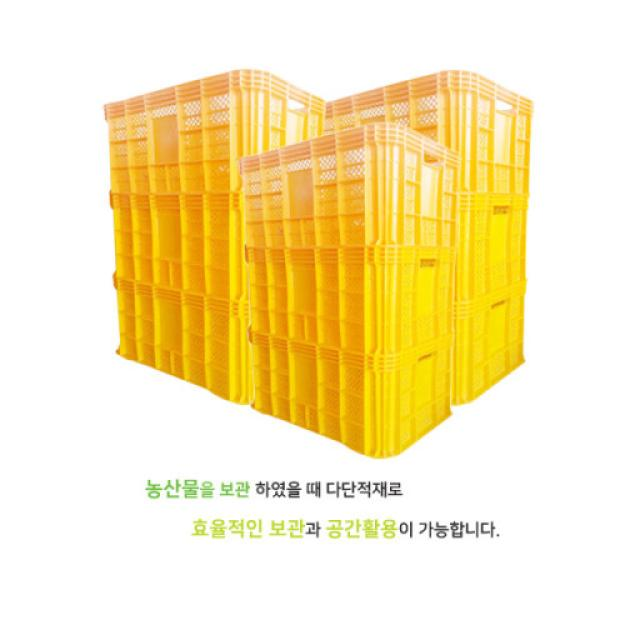basket: (42, 34, 333, 406), (233, 120, 460, 460), (316, 65, 536, 407)
